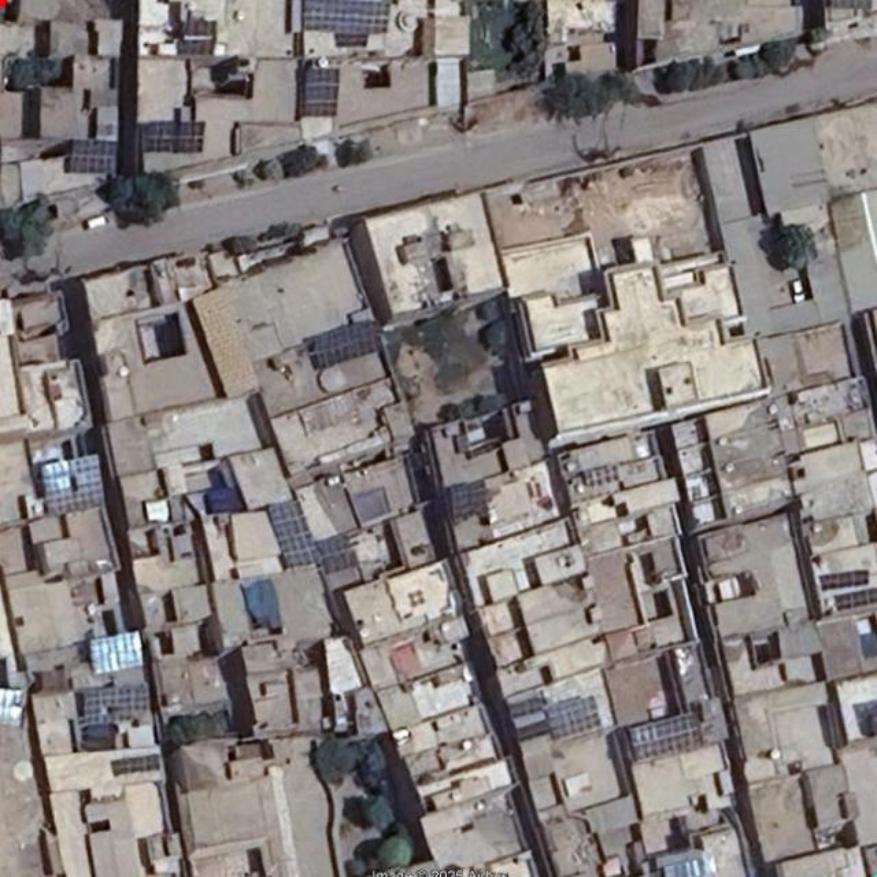Solarpanel: (313, 319, 385, 370), (268, 499, 320, 565), (632, 714, 705, 759), (41, 457, 101, 510), (304, 0, 390, 33), (85, 686, 145, 726), (543, 698, 600, 740), (93, 631, 147, 675), (303, 66, 339, 116), (144, 124, 205, 151), (71, 136, 116, 172), (835, 588, 876, 610), (111, 756, 159, 774), (821, 571, 870, 588)
